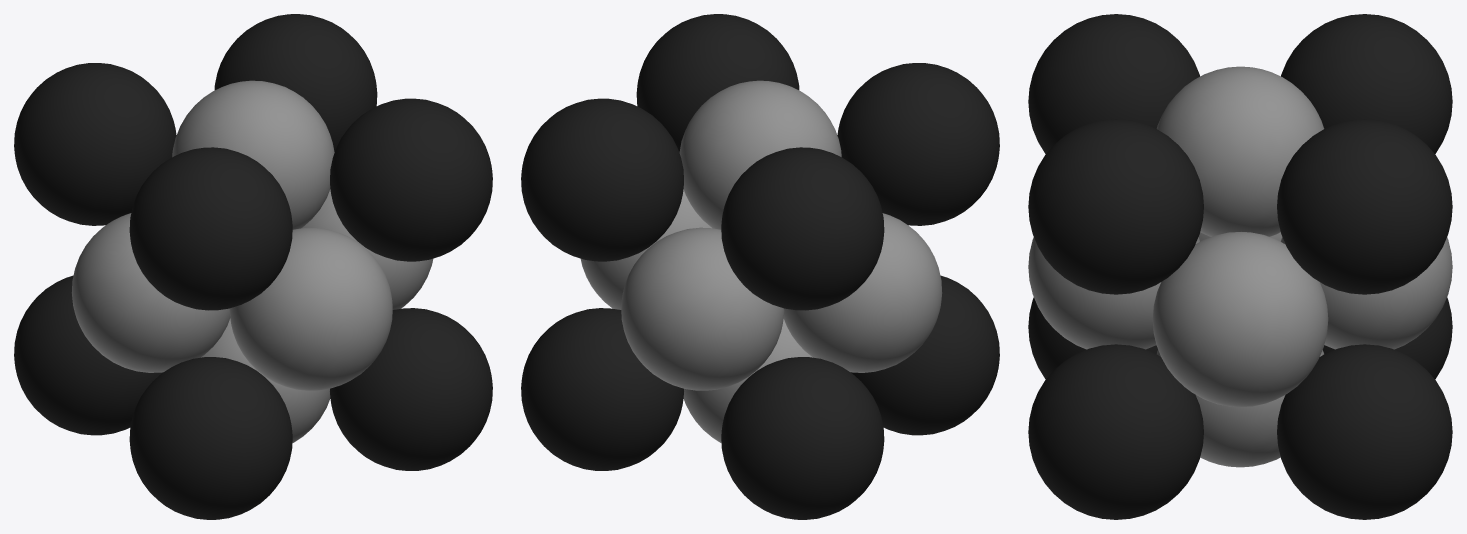
File: solid_state_qn_004.glb
3 renders of one model, left to right at view 1: azimuth 30°, elevation 25°; view 2: azimuth 150°, elevation 25°; view 3: azimuth 270°, elevation 25°, orthographic. The views are drawn at different scales.
Visible parts, largest first — view 1: Icosphere.014, Icosphere.017, Icosphere.009, Icosphere.015, Icosphere.019, Icosphere.013, Icosphere.022, Icosphere.020, Icosphere.011, Icosphere.016, Icosphere.021, Icosphere.023; view 2: Icosphere.015, Icosphere.016, Icosphere.011, Icosphere.014, Icosphere.018, Icosphere.012, Icosphere.022, Icosphere.020, Icosphere.009, Icosphere.017, Icosphere.021, Icosphere.023; view 3: Icosphere.016, Icosphere.017, Icosphere.013, Icosphere.012, Icosphere.023, Icosphere.020, Icosphere.014, Icosphere.015, Icosphere.018, Icosphere.019, Icosphere.021, Icosphere.011 (+1 smaller).
Boxes of the visible parts, box(x1,y1,x2,y2) form: Icosphere.014: box(129, 147, 292, 310); Icosphere.017: box(330, 98, 492, 261); Icosphere.009: box(129, 357, 292, 519); Icosphere.015: box(14, 63, 176, 225); Icosphere.019: box(229, 227, 392, 390); Icosphere.013: box(330, 308, 492, 470); Icosphere.022: box(71, 213, 230, 372); Icosphere.020: box(172, 80, 334, 229); Icosphere.011: box(14, 275, 162, 435); Icosphere.016: box(214, 14, 377, 151); Icosphere.021: box(201, 318, 330, 443); Icosphere.023: box(302, 189, 433, 309); Icosphere.015: box(721, 147, 884, 310); Icosphere.016: box(521, 98, 683, 261); Icosphere.011: box(721, 357, 884, 519); Icosphere.014: box(837, 63, 999, 225); Icosphere.018: box(621, 227, 784, 390); Icosphere.012: box(521, 308, 683, 470); Icosphere.022: box(783, 213, 942, 372); Icosphere.020: box(679, 80, 841, 229); Icosphere.009: box(851, 275, 999, 435); Icosphere.017: box(636, 14, 799, 152); Icosphere.021: box(683, 319, 812, 443); Icosphere.023: box(580, 189, 711, 309); Icosphere.016: box(1277, 119, 1452, 294); Icosphere.017: box(1028, 119, 1203, 294); Icosphere.013: box(1028, 344, 1203, 519); Icosphere.012: box(1277, 344, 1452, 519); Icosphere.023: box(1152, 232, 1328, 407); Icosphere.020: box(1156, 66, 1324, 236); Icosphere.014: box(1028, 14, 1199, 153); Icosphere.015: box(1281, 14, 1452, 153); Icosphere.018: box(1281, 237, 1452, 349); Icosphere.019: box(1028, 237, 1199, 349); Icosphere.021: box(1157, 349, 1323, 467); Icosphere.011: box(1323, 297, 1452, 379).
Size of the model in its own units: 4.83 by 4.83 by 4.83.
Materials: 1 (1 with a texture image).
